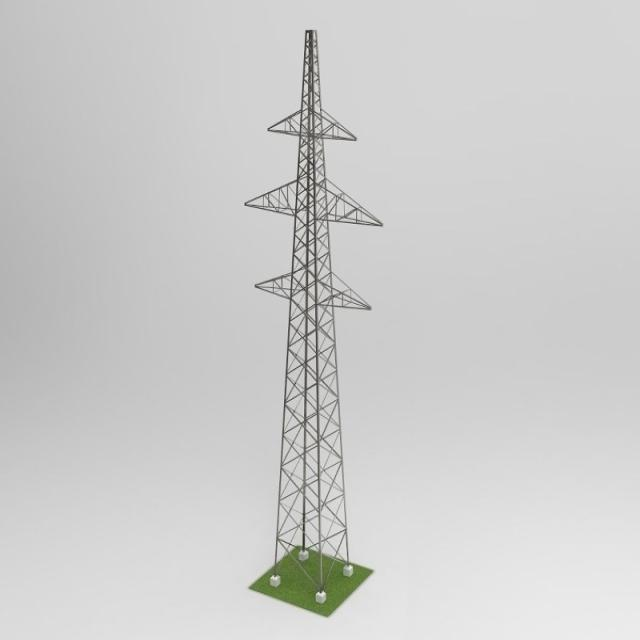non-critical vegetation: (238, 18, 386, 606)
